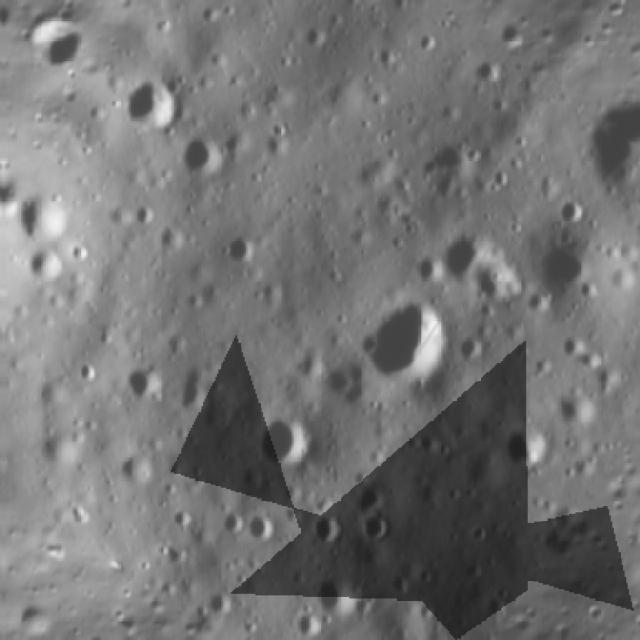crater: (338, 273, 474, 407), (522, 223, 610, 312), (242, 402, 324, 486), (1, 181, 84, 262), (111, 68, 189, 146), (414, 129, 492, 206), (453, 241, 529, 317), (312, 346, 386, 419), (488, 411, 560, 484), (300, 564, 369, 633), (162, 125, 232, 192), (158, 355, 224, 423), (539, 378, 603, 442), (24, 420, 88, 482), (111, 354, 172, 415), (12, 237, 72, 297), (104, 442, 164, 498), (214, 222, 268, 276), (416, 164, 469, 213), (339, 474, 390, 524), (232, 506, 283, 554), (298, 507, 348, 555), (252, 122, 300, 172), (542, 188, 590, 238), (347, 509, 398, 556), (210, 128, 256, 172), (291, 16, 335, 62), (465, 50, 509, 96), (198, 580, 242, 625), (582, 357, 627, 401), (424, 93, 467, 136), (539, 493, 579, 536), (470, 589, 510, 631), (549, 330, 589, 368), (212, 506, 250, 545), (528, 520, 564, 558), (154, 535, 191, 571), (480, 165, 517, 201), (408, 27, 444, 62), (283, 609, 323, 640), (366, 40, 400, 75), (192, 0, 225, 34), (460, 520, 491, 552), (632, 194, 640, 229)
